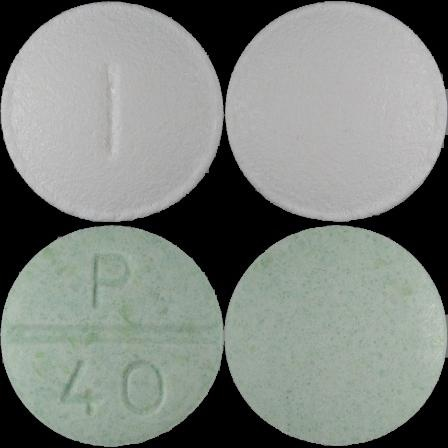63629-4605: (0, 0, 224, 224)
